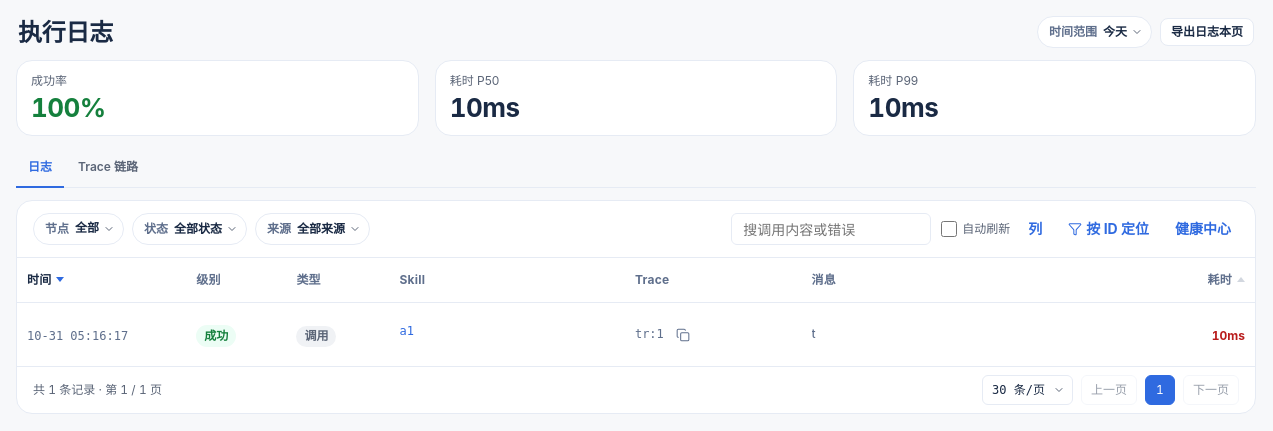
Test: 批次 1：EG7 / EG17 / D19 › 列菜单不再逐条给字段解释；类型列默认可见（合并行的来源线索）
Click the button with class "mk-cols__trigger" at [1035, 229], box [1020,213,1050,245]
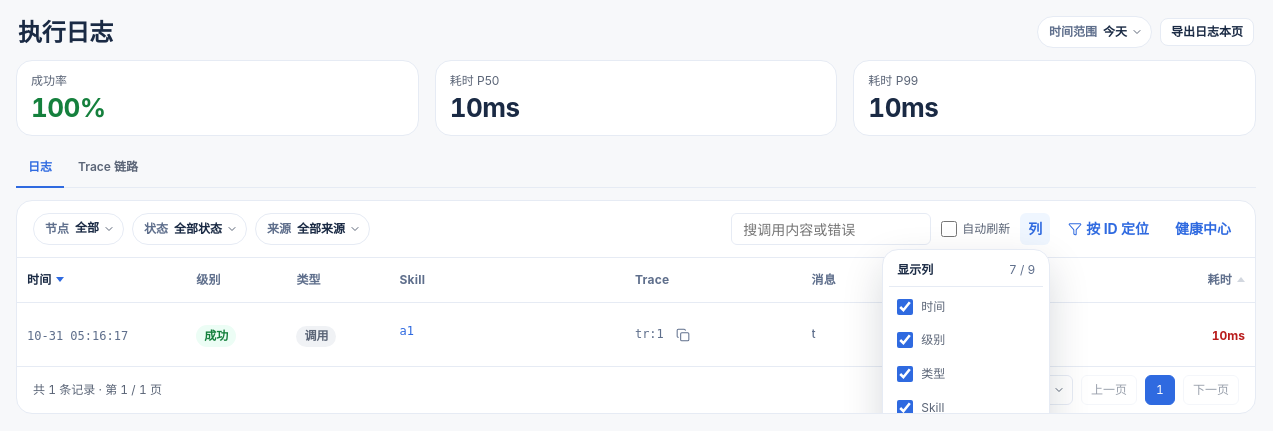
Result: the checkbox labelled "类型" is checked at [897,366,913,382]
